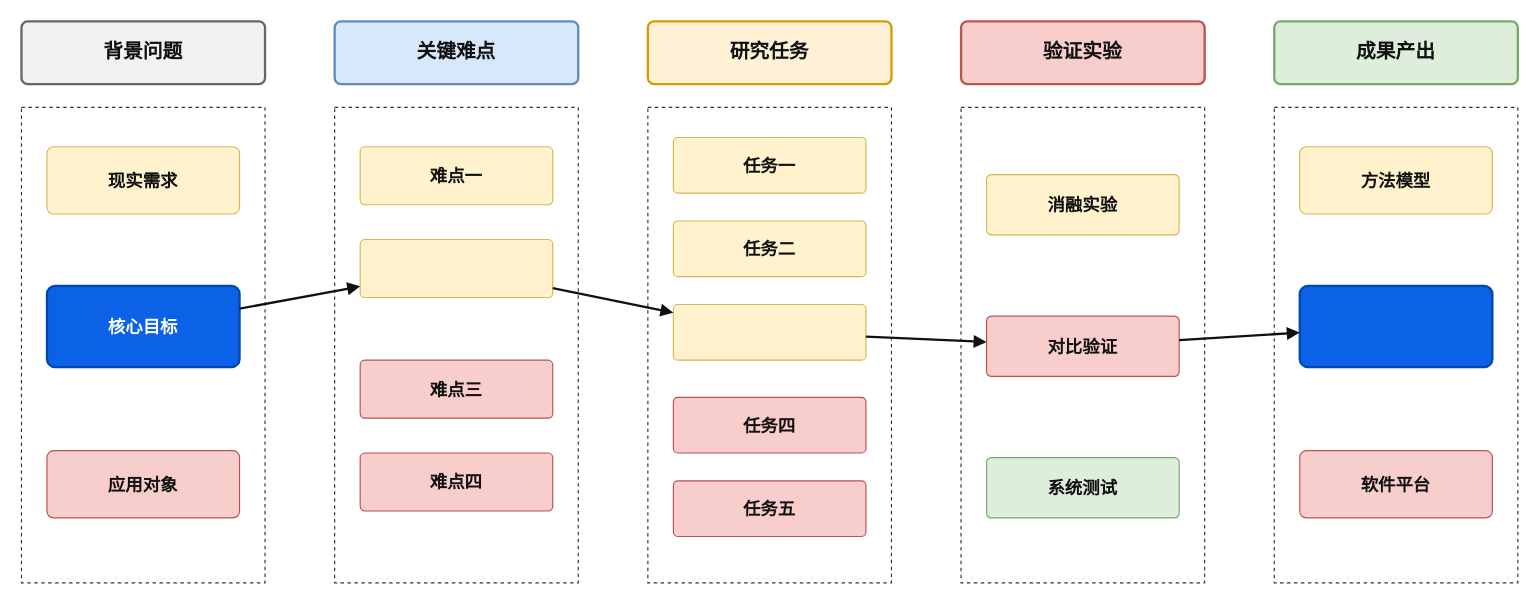
Some shapes in this 1538 by 603 pixel diagram are drawn without their labels. Each missing label, with the centre of its shape:
任务三: the point at 769,331
自动化闭环: the point at 1395,326
难点二: the point at 456,268
